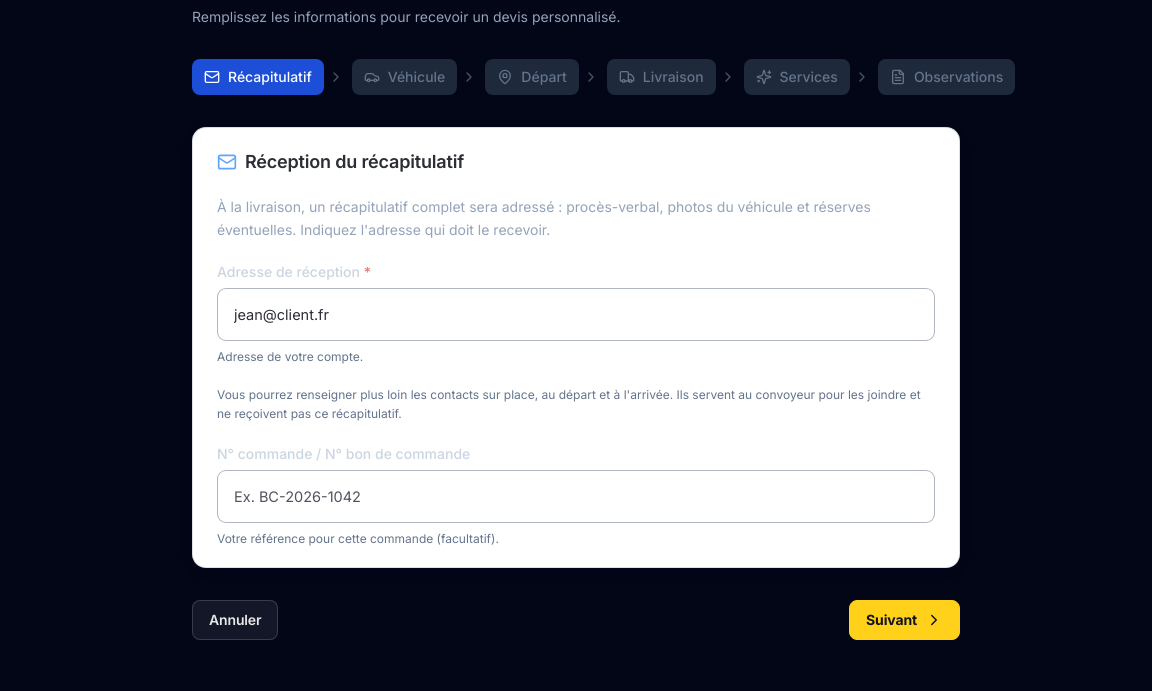
Test case: NewMission › affiche le bouton Ajouter un véhicule
Click the button "Suivant" at (905, 620), box [849,600,960,640]
(page scrolled)
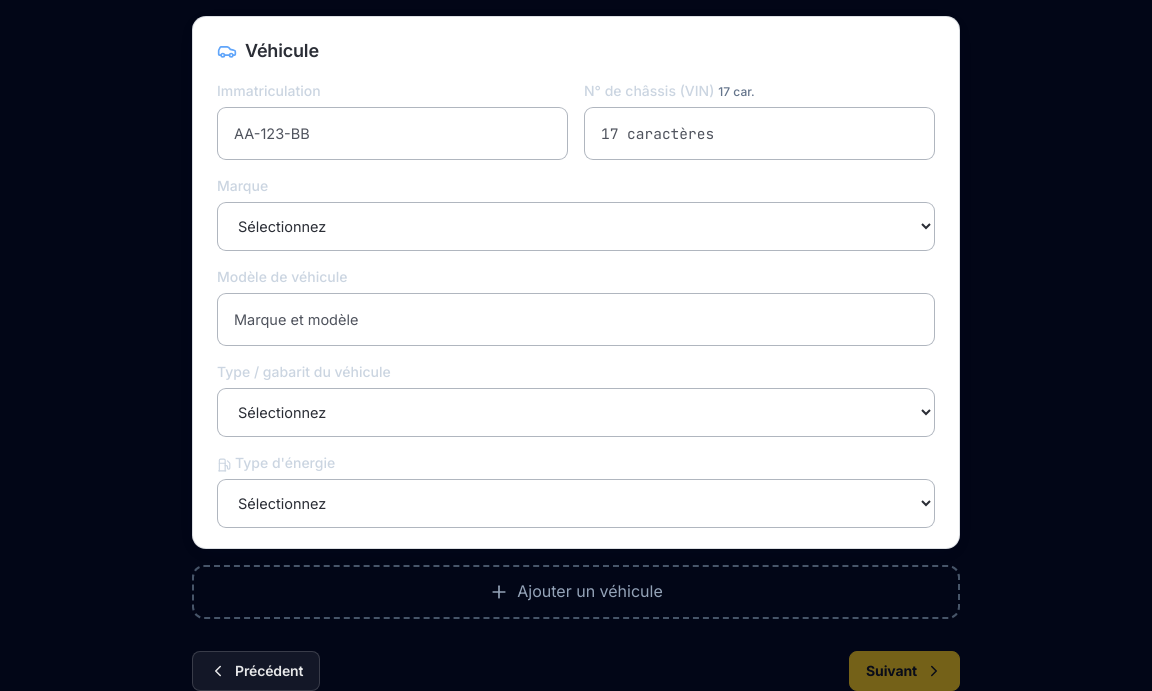
Now the field with placeholder "AA-123-BB" is shown, box [217,107,568,160]
Now the button "Ajouter un véhicule" is shown, box [192,565,960,619]
